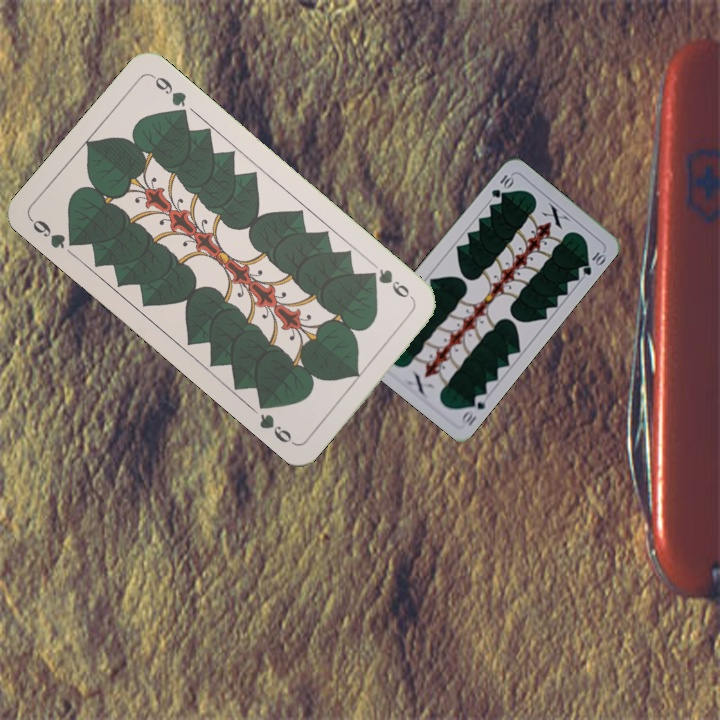G10: (458, 389, 491, 429), (487, 170, 517, 200)
G9: (364, 264, 417, 305), (26, 215, 82, 252)
